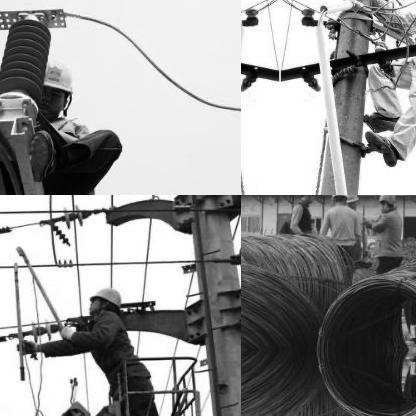Helmet: (30, 58, 72, 122), (87, 284, 121, 318), (374, 195, 397, 212), (341, 195, 359, 210), (329, 195, 349, 207), (296, 195, 318, 204)
